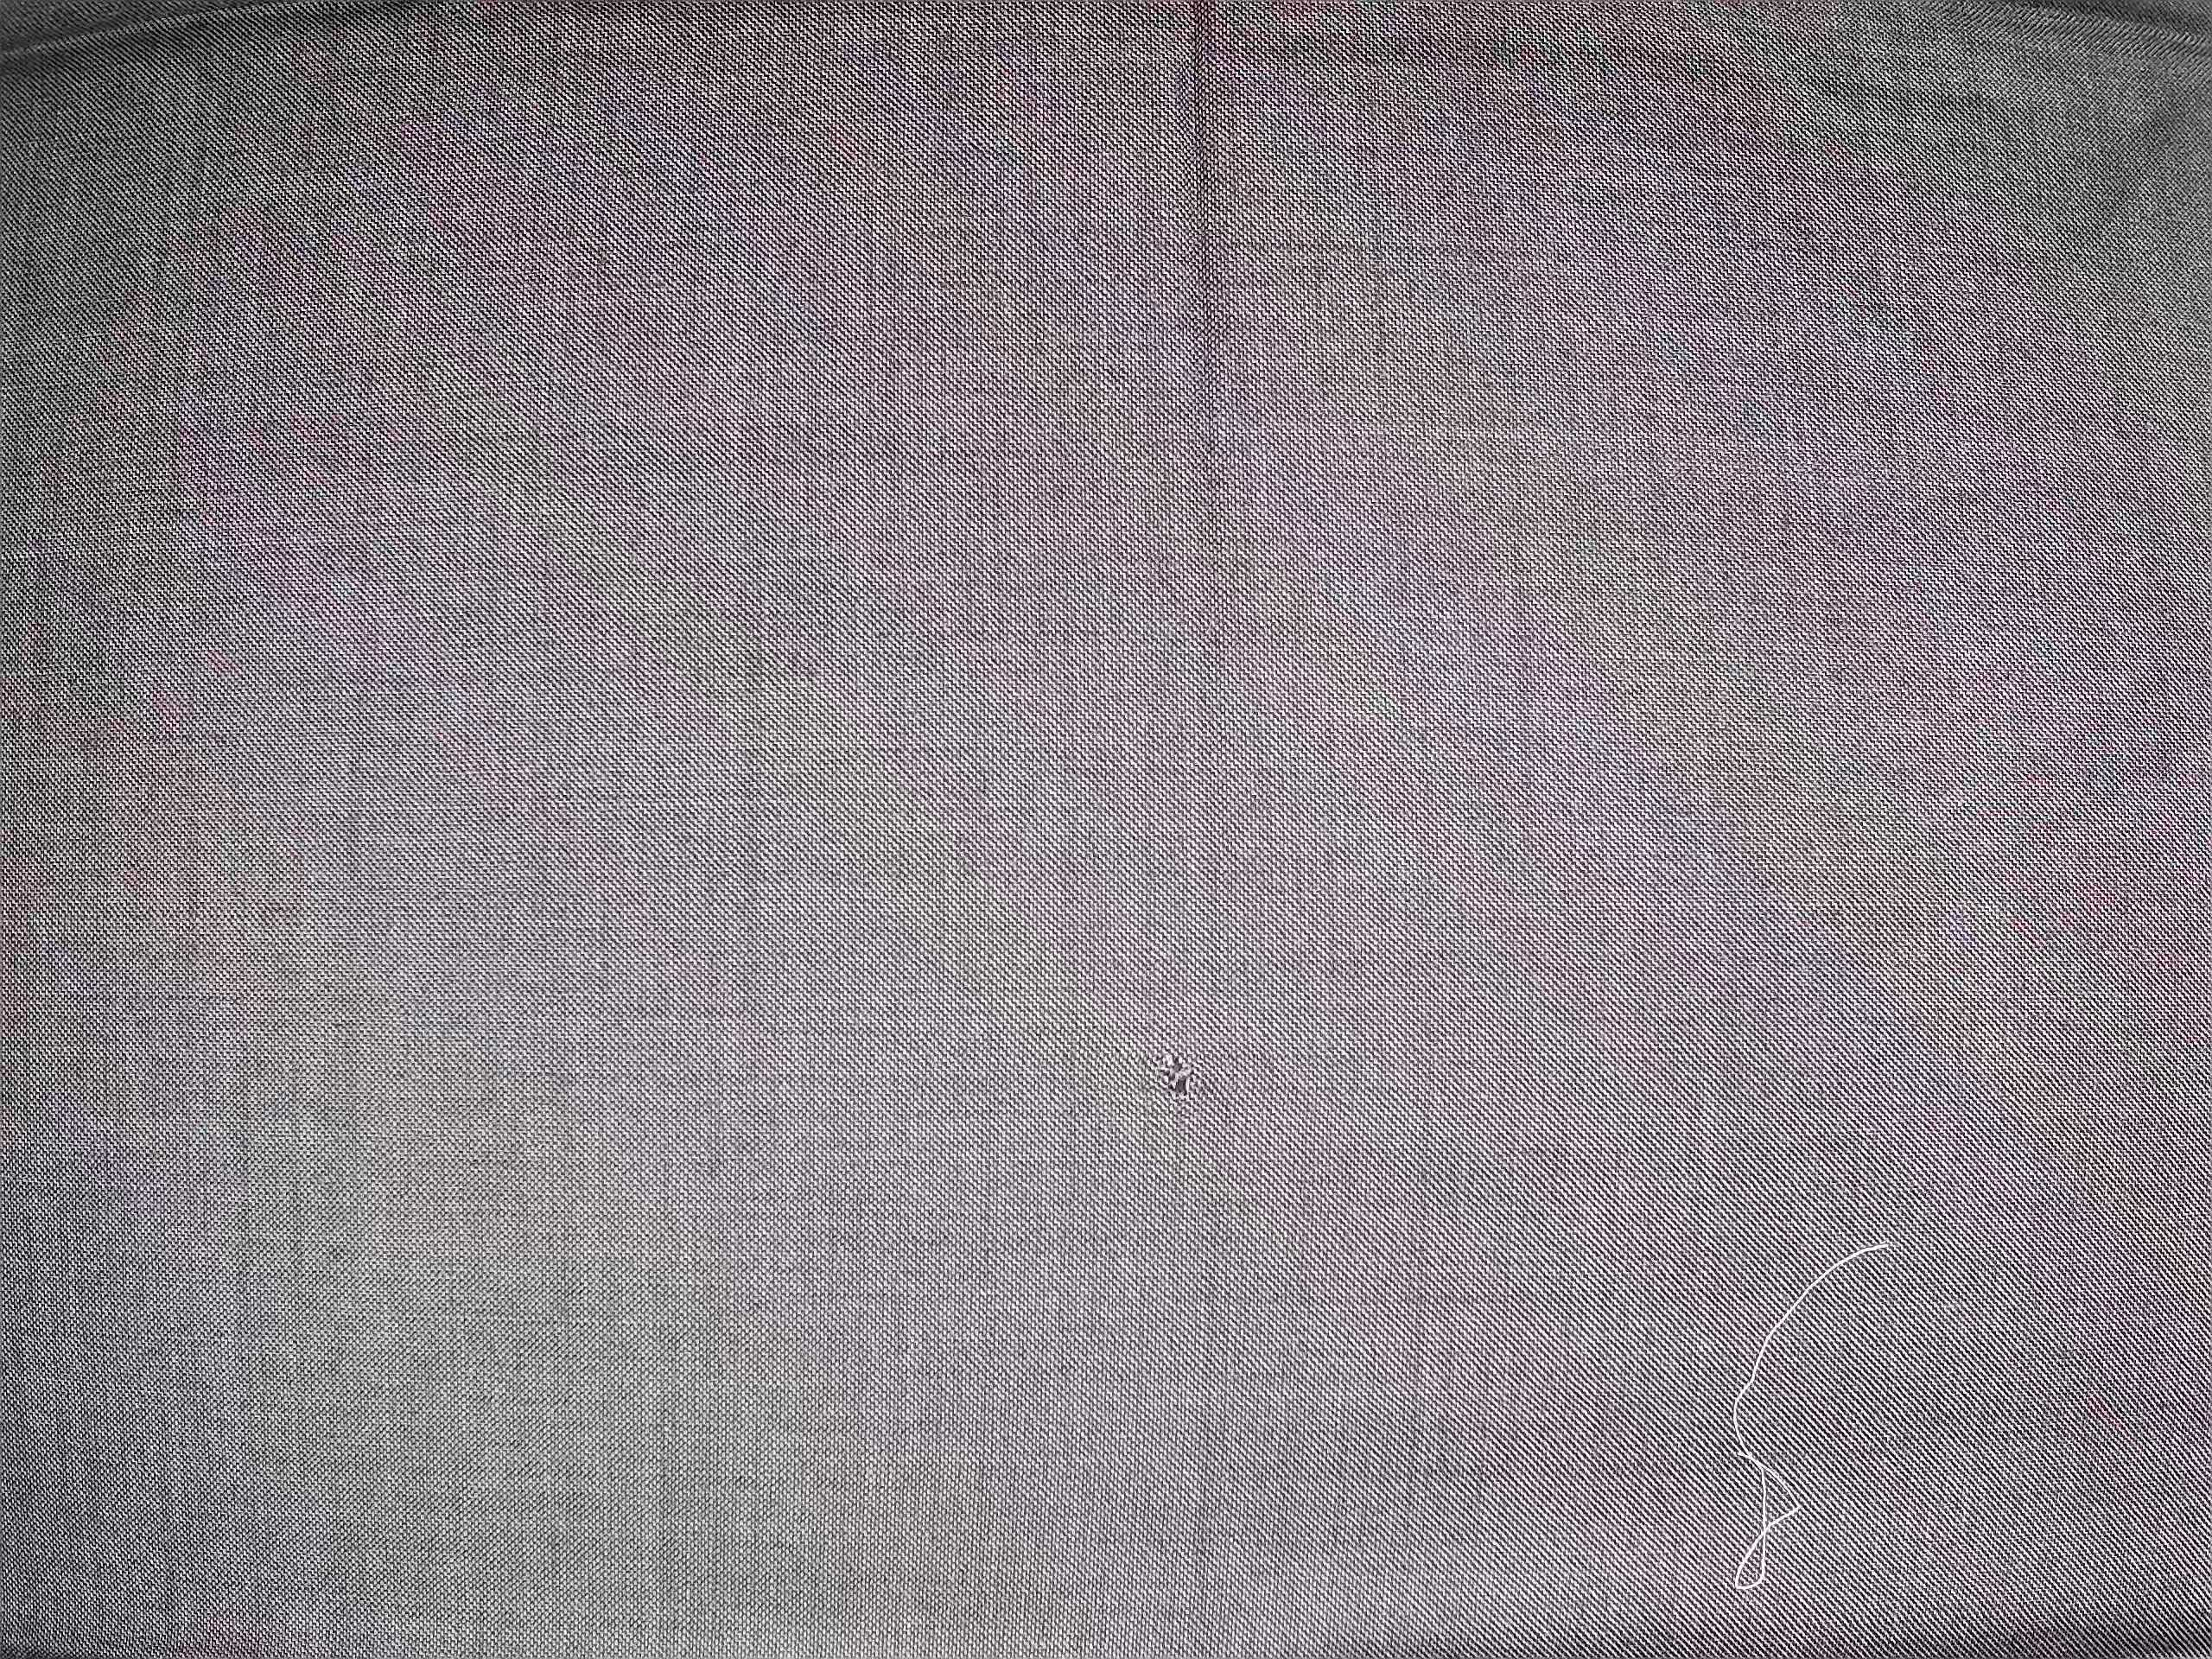rubbing-hole: (1144, 1033, 1212, 1115)
